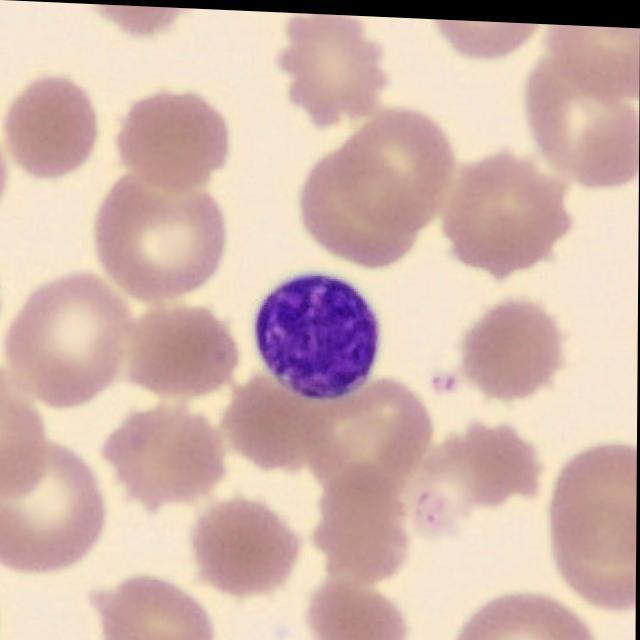Linfocito: (253, 269, 380, 395)
